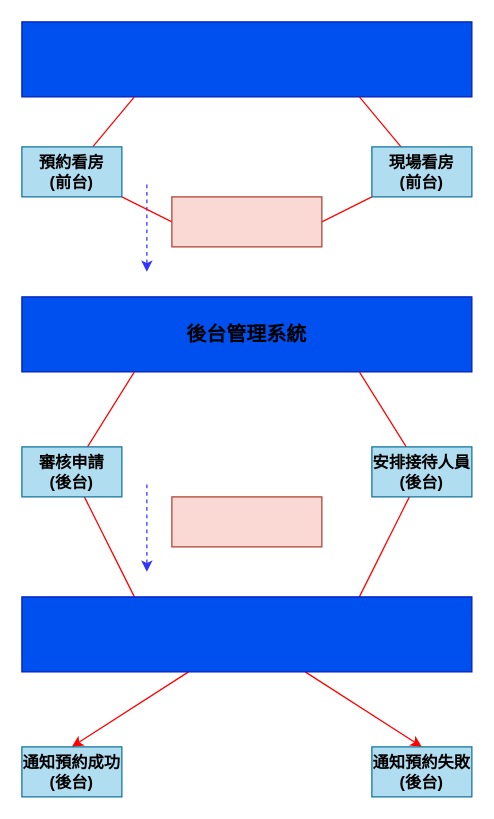
This 494x819 diagram has some shape labels left out. Here are the shapes that lost their labels. From the top down, the centre of each, then its label:
At [246,59]: "看房預約系統".
At [246,221]: "提交申請".
At [246,521]: "更新申請狀況".
At [246,634]: "Line通知系統".
